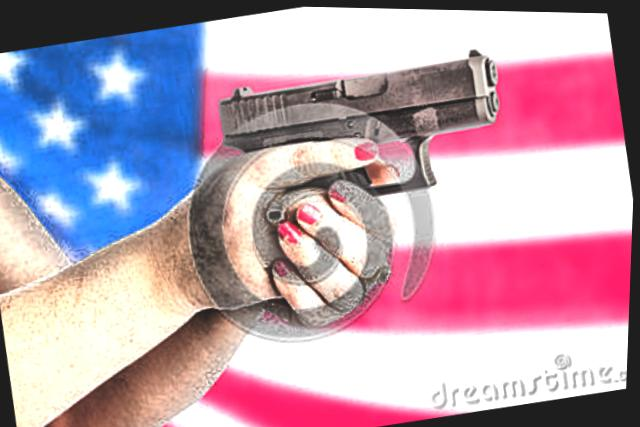pistol: (208, 36, 518, 220)
